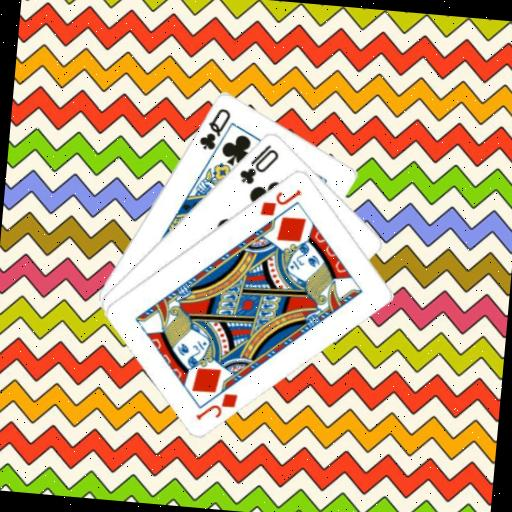10C: (236, 138, 282, 188)
JD: (193, 386, 241, 425), (256, 182, 304, 220)
QC: (195, 103, 233, 153)
